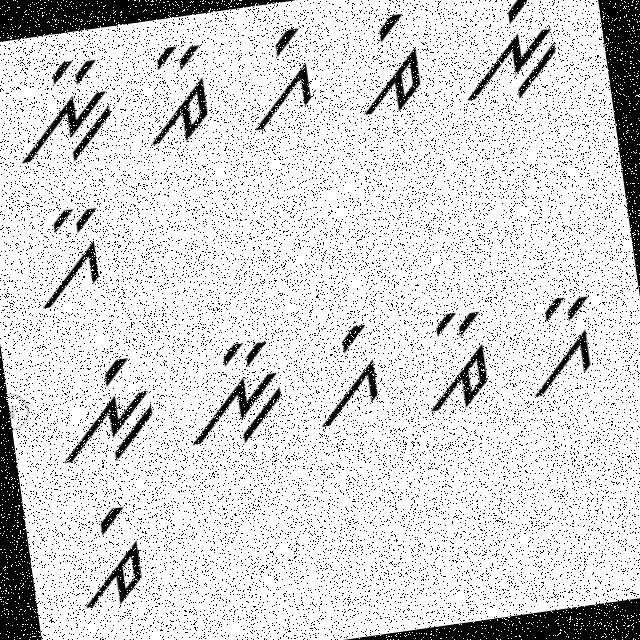gan: (18, 194, 114, 316), (516, 287, 606, 408)
gang: (299, 320, 392, 439), (232, 25, 320, 134)
ngan: (172, 331, 295, 457), (0, 56, 122, 178)
ngang: (51, 350, 162, 470), (453, 0, 568, 107)
tan: (414, 299, 502, 415), (134, 42, 218, 152)
tang: (339, 8, 428, 120), (68, 505, 154, 618)
